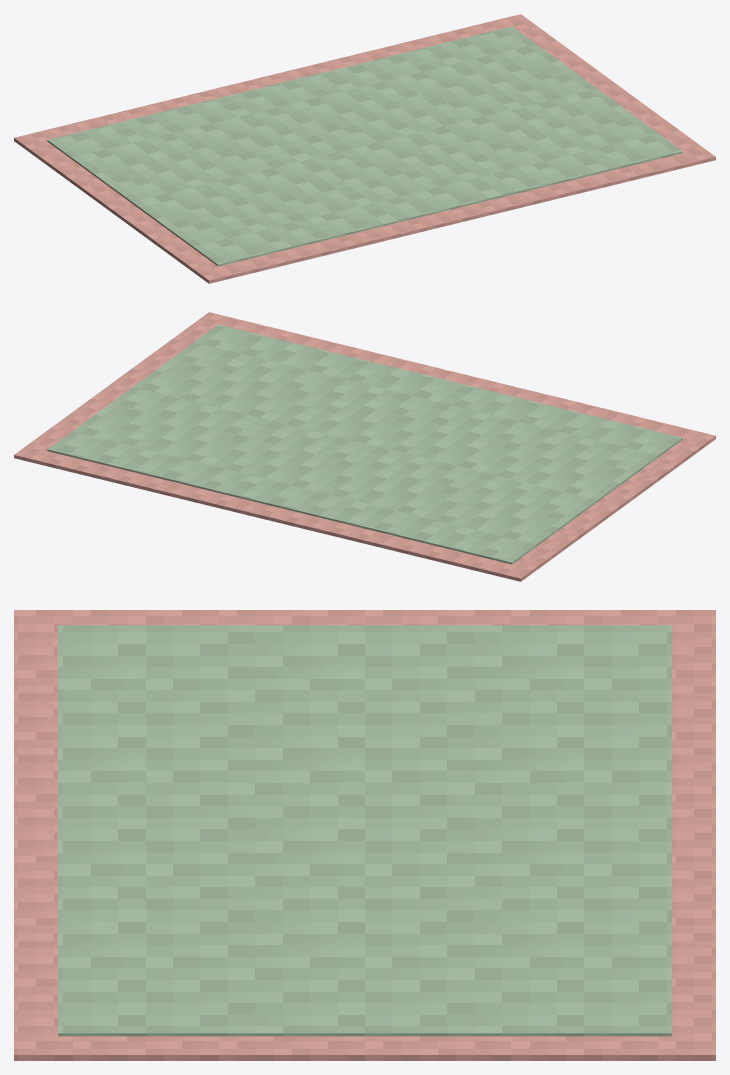
The model's file is pixel-modern-apartments-living-rug-27c3e946__29828.glb.
The picture shows the model from 3 angles, top to bottom: view 1: azimuth 30°, elevation 25°; view 2: azimuth 150°, elevation 25°; view 3: azimuth 270°, elevation 25°; orthographic projection. The views are drawn at different scales.
Visible parts, largest first — view 1: living-rug; view 2: living-rug; view 3: living-rug.
Part boxes in pixels (left/top/right/bottom): living-rug: left=14, top=14, right=715, bottom=283; living-rug: left=14, top=312, right=715, bottom=581; living-rug: left=14, top=610, right=715, bottom=1060.
Size of the model in its own units: 2.4 by 0.023 by 1.6.
Materials: 2 (2 with a texture image).
